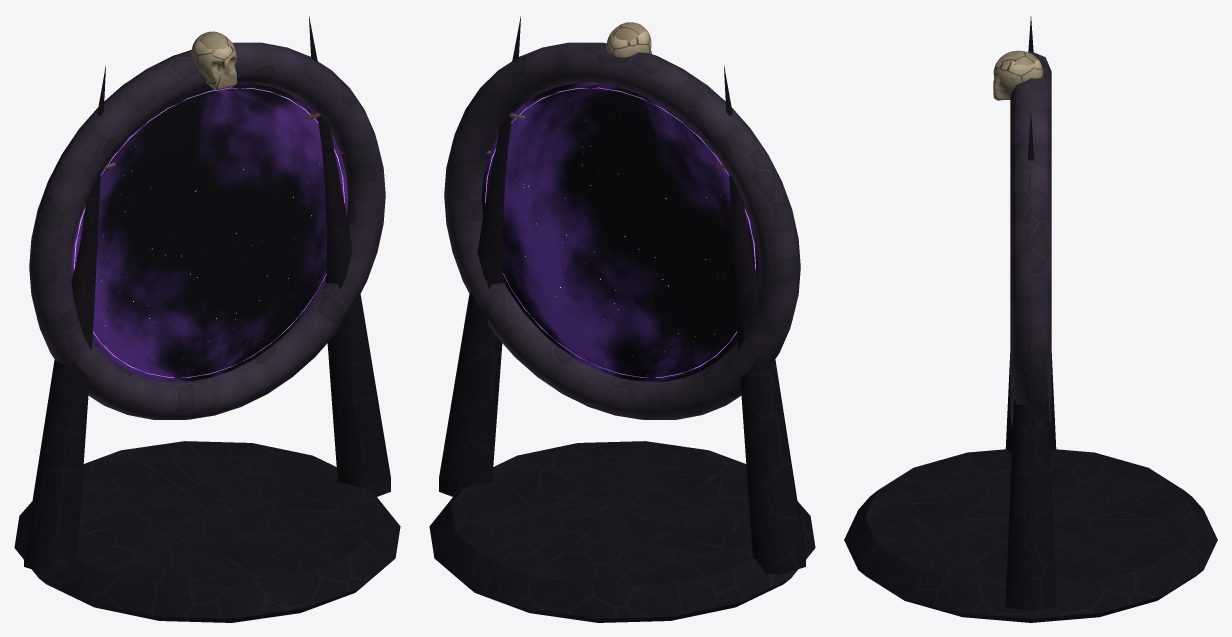
File: portal.glb
3 renders of one model, left to right at view 1: azimuth 30°, elevation 25°; view 2: azimuth 150°, elevation 25°; view 3: azimuth 270°, elevation 25°, orthographic. The views are drawn at different scales.
Visible parts, largest first — view 1: Base, Vortex; view 2: Base, Vortex; view 3: Base.
Boxes of the visible parts, x1,y1,x2,y2 form: Base: [14, 16, 400, 622]; Vortex: [71, 82, 348, 381]; Base: [429, 16, 815, 622]; Vortex: [481, 82, 758, 381]; Base: [844, 16, 1217, 622].
Bounding box in the file's own units: 0.979 × 1.32 × 0.9.
Materials: 6 (6 with a texture image).
